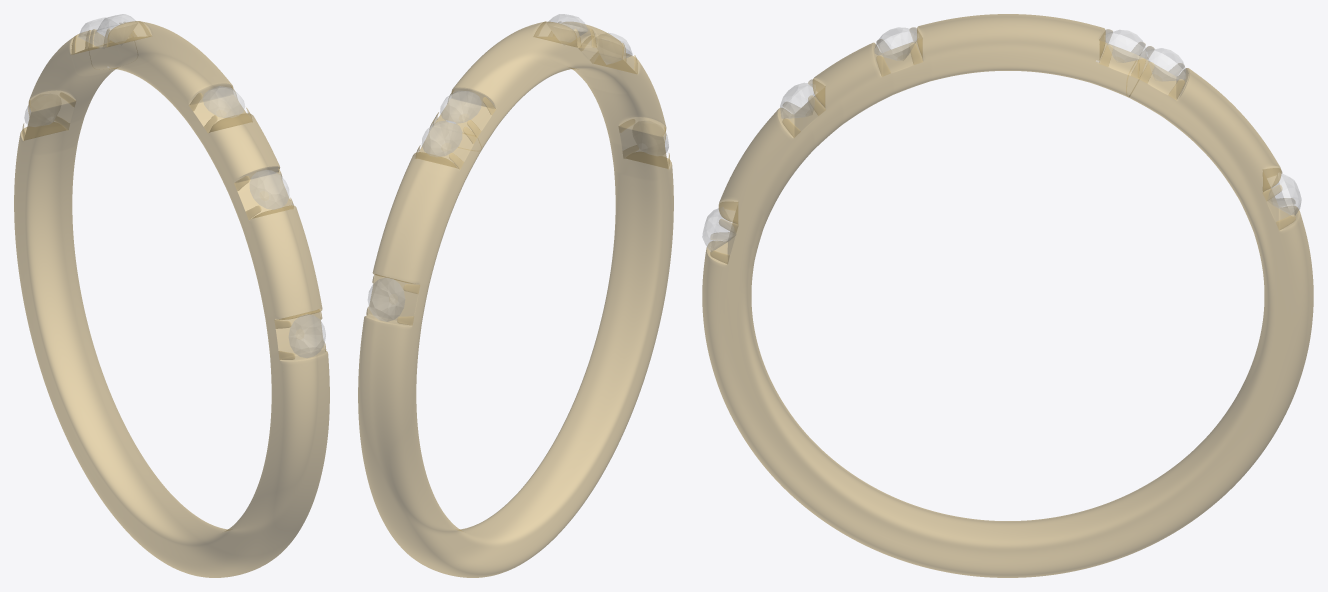
The picture shows the model from 3 angles, left to right: view 1: azimuth 30°, elevation 25°; view 2: azimuth 150°, elevation 25°; view 3: azimuth 270°, elevation 25°; orthographic projection. The views are drawn at different scales.
Visible parts, largest first — view 1: Ring, Diamond; view 2: Ring, Diamond; view 3: Ring, Diamond.
Part boxes in pixels (x1=…): Ring: x1=14, y1=21, x2=329, y2=577; Diamond: x1=24, y1=14, x2=325, y2=357; Ring: x1=358, y1=21, x2=673, y2=577; Diamond: x1=368, y1=14, x2=668, y2=321; Ring: x1=702, y1=14, x2=1313, y2=577; Diamond: x1=702, y1=27, x2=1301, y2=251.
Bounding box in the file's own units: 0.2118 × 2.26 × 2.26.
